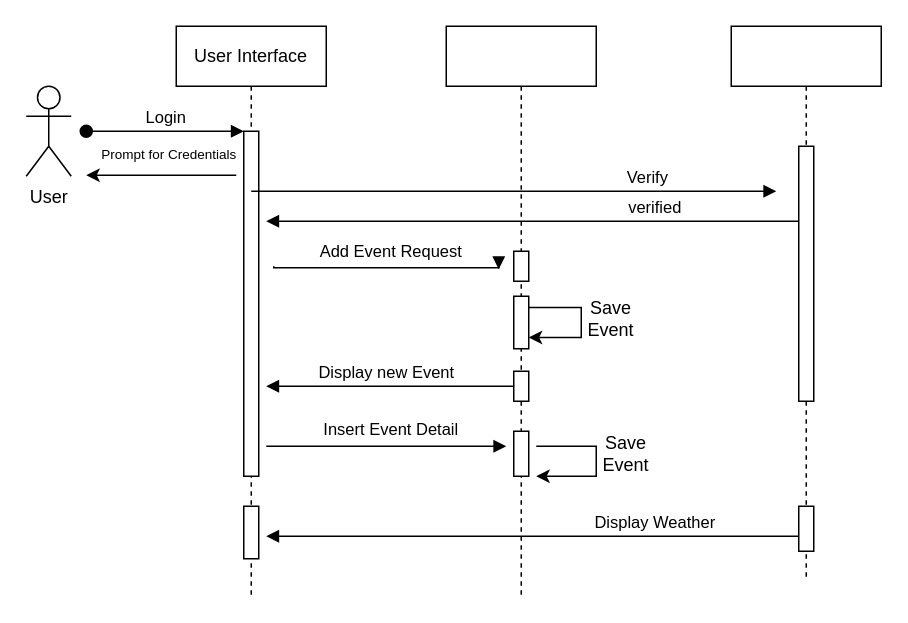
This 908x623 diagram has some shape labels left out. Here are the shapes that lost their labels. From the top down, the box of each, then its label:
(445, 25, 596, 596): Web Calendar
(730, 25, 881, 581): Database
